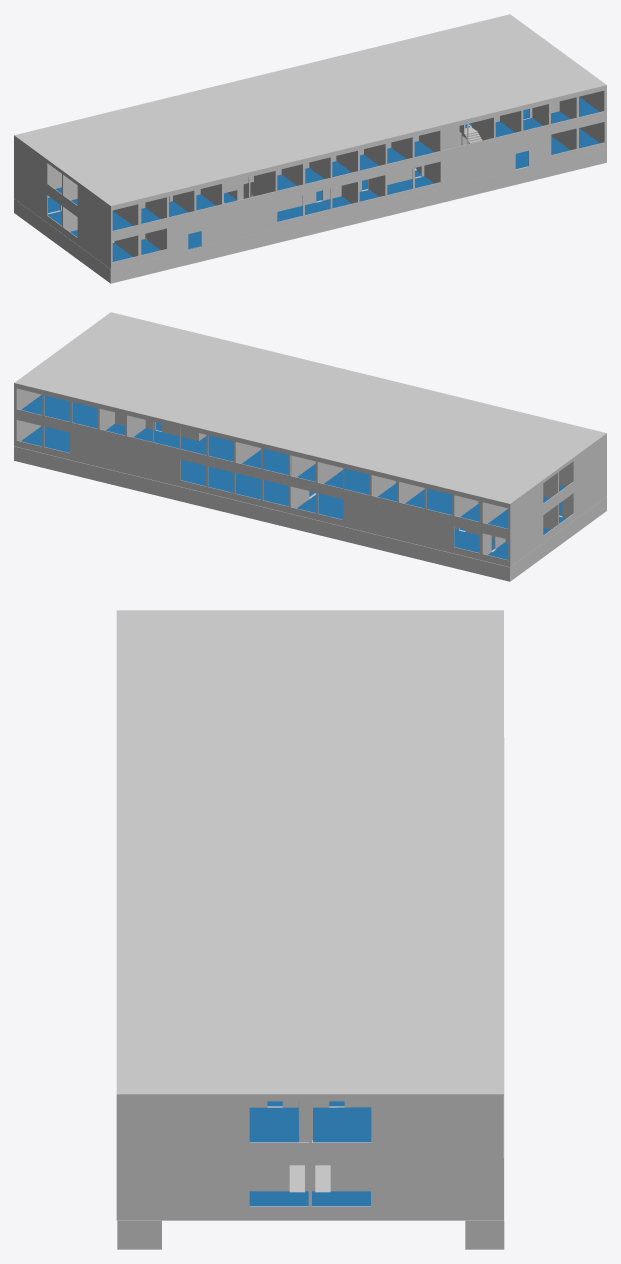
File: AlumniHall.fbx
3 renders of one model, top to bottom at view 1: azimuth 30°, elevation 25°; view 2: azimuth 150°, elevation 25°; view 3: azimuth 270°, elevation 25°, orthographic. The views are drawn at different scales.
Visible parts, largest first — view 1: TopFloor, BottomFloor; view 2: TopFloor, BottomFloor; view 3: TopFloor, BottomFloor.
Boxes of the visible parts, x1,y1,x2,y2 form: TopFloor: (14, 14, 606, 237); BottomFloor: (14, 117, 606, 283); TopFloor: (14, 312, 606, 535); BottomFloor: (14, 415, 606, 581); TopFloor: (116, 610, 503, 1158); BottomFloor: (116, 737, 504, 1249).
Size of the model in its own units: 6840 by 1024 by 2314.
